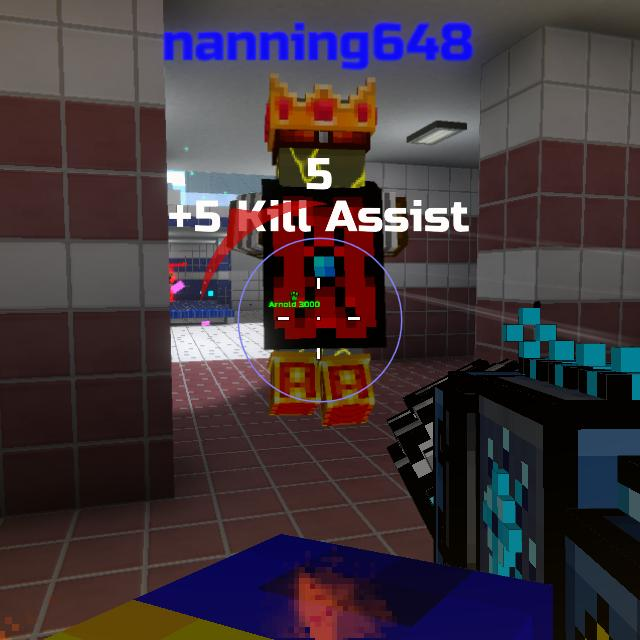Enemy: (169, 271, 176, 302)
